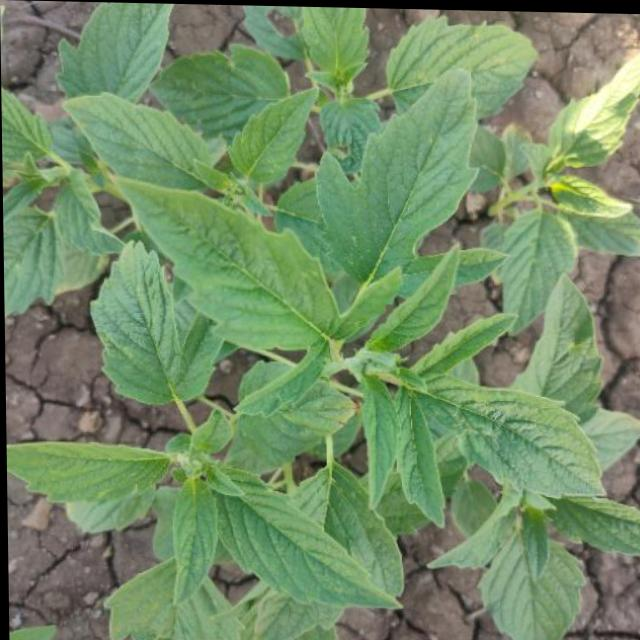crop: (33, 20, 629, 630)
